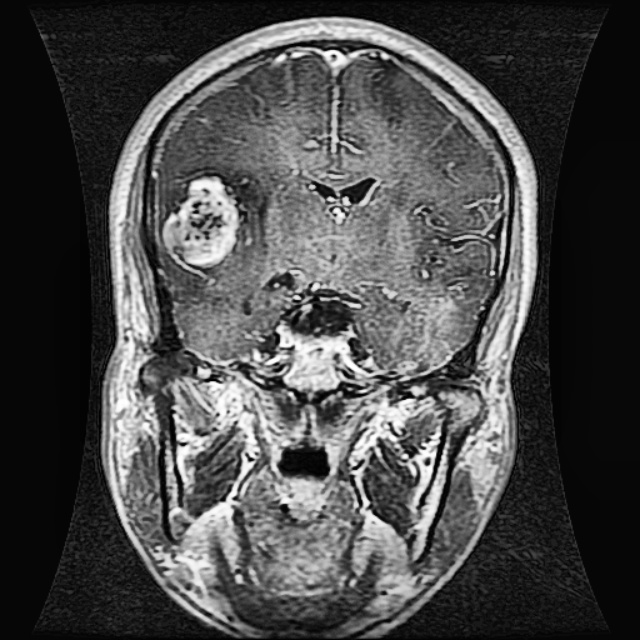Meningioma: (157, 173, 242, 270)
